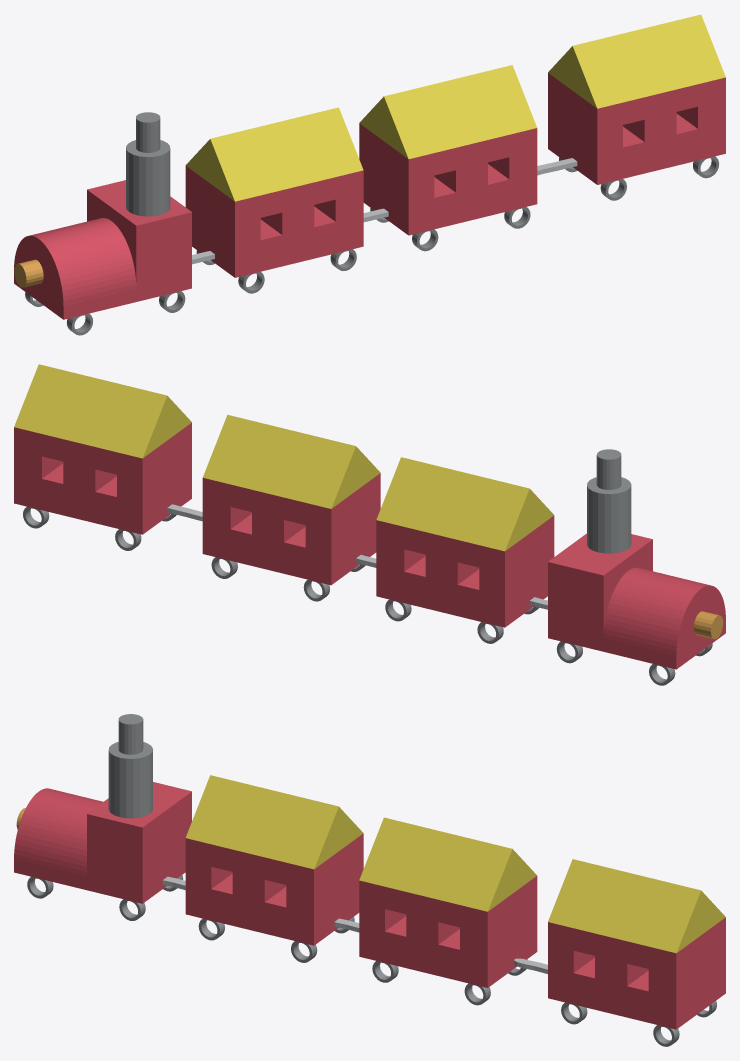
The model's file is Train.glb.
3 renders of one model, top to bottom at view 1: azimuth 30°, elevation 25°; view 2: azimuth 150°, elevation 25°; view 3: azimuth 330°, elevation 25°, orthographic.
Parts seen in each view (by area): view 1: Mesh_Mesh_head_geo.001_lambert2SG.001; view 2: Mesh_Mesh_head_geo.001_lambert2SG.001; view 3: Mesh_Mesh_head_geo.001_lambert2SG.001.
Boxes of the visible parts, x1=… form: Mesh_Mesh_head_geo.001_lambert2SG.001: x1=14, y1=14, x2=725, y2=335; Mesh_Mesh_head_geo.001_lambert2SG.001: x1=14, y1=364, x2=725, y2=685; Mesh_Mesh_head_geo.001_lambert2SG.001: x1=14, y1=714, x2=725, y2=1046.
Size of the model in its own units: 158 by 42 by 20.
